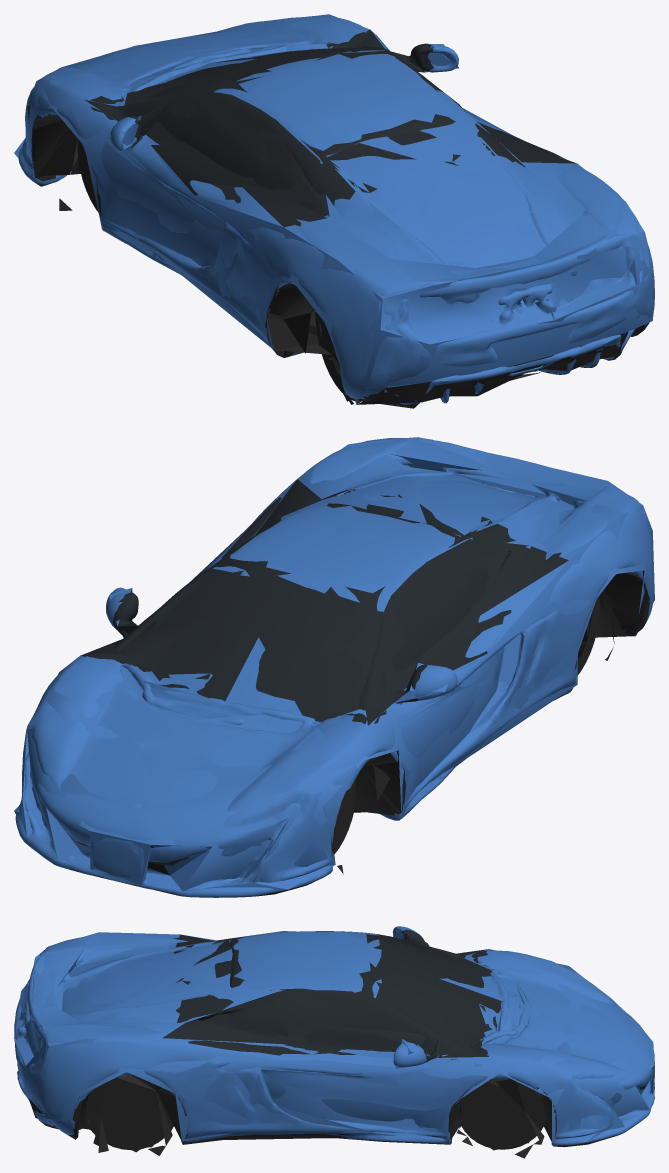
The model's file is mclaren-675lt-coupe.glb.
3 renders of one model, top to bottom at view 1: azimuth 30°, elevation 25°; view 2: azimuth 150°, elevation 25°; view 3: azimuth 270°, elevation 25°, orthographic. The views are drawn at different scales.
Visible parts, largest first — view 1: body, far; view 2: body, far; view 3: body, far.
Boxes of the visible parts, x1,y1,x2,y2 form: body: [18, 16, 654, 408]; far: [14, 14, 653, 404]; body: [15, 438, 654, 897]; far: [14, 437, 654, 890]; body: [14, 926, 654, 1158]; far: [14, 931, 654, 1152].
Bounding box in the file's own units: 2.17 × 1.23 × 4.53.
